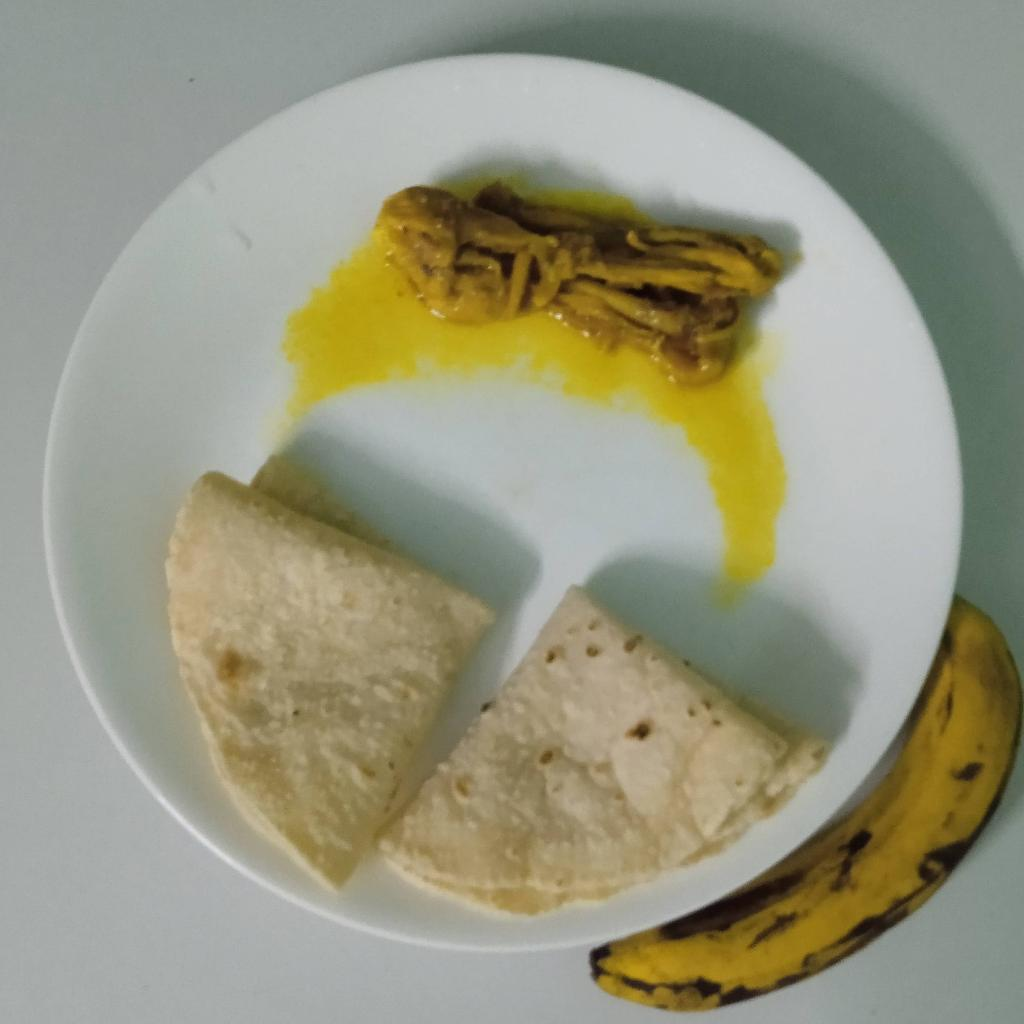banana: (590, 597, 1022, 1011)
chicken: (377, 183, 782, 384)
ruti: (166, 473, 826, 914)
